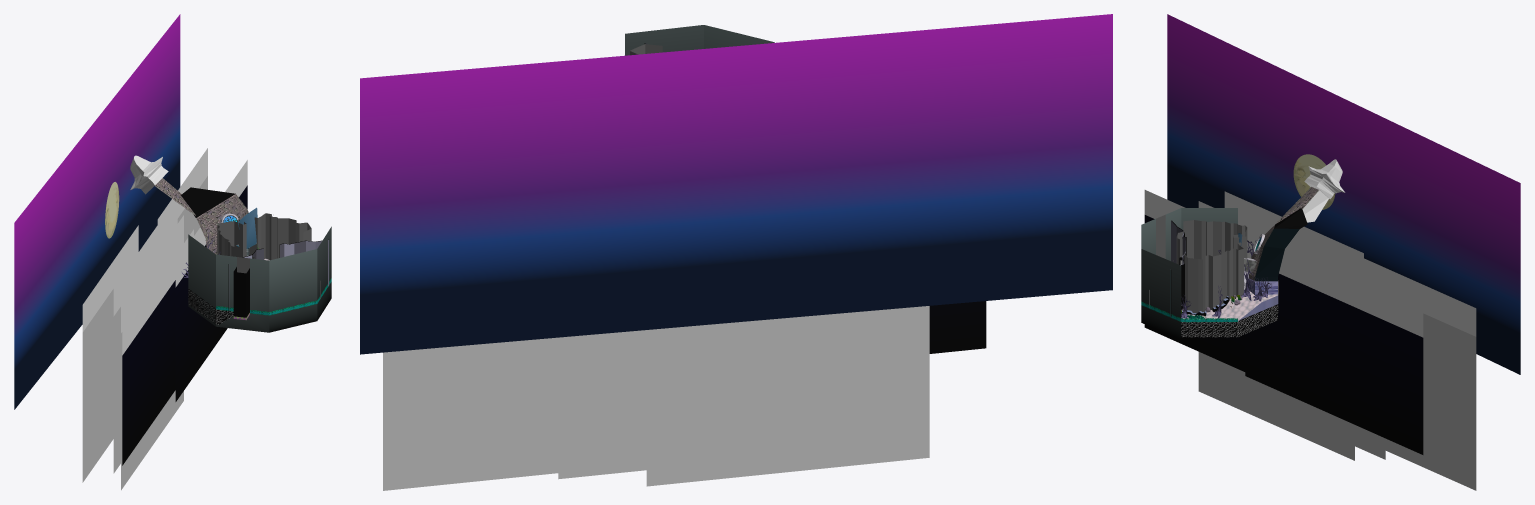
The model's file is gra_06.dae.
3 views of the same model, side by side, from view 1: azimuth 30°, elevation 25°; view 2: azimuth 150°, elevation 25°; view 3: azimuth 270°, elevation 25° (orthographic). The views are drawn at different scales.
Parts seen in each view (by area): view 1: pPlane364_q044, a_zimen02, polySurface953_q038_part0, polySurface953_q037_part0, polySurface953_q039_part0, polySurface953_q040_part1, polySurface953_q036_part1, a_niwa01, polySurface953_q040_part0, polySurface953_q037_part1, polySurface953_q038_part1, polySurface953_q036_part0 (+14 smaller); view 2: pPlane364_q044, polySurface953_q037_part0, polySurface953_q041_part0, polySurface953_q038_part0, a_zimen02, polySurface953_q036_part0; view 3: pPlane364_q044, polySurface953_q039_part0, polySurface953_q041_part0, polySurface953_q040_part0, a_zimen02, polySurface953_q039_part1, a_niwa01, polySurface953_q041_part1, polySurface953_q036_part1, a_niwa02, pCube3_q008_part1, polySurface953_q038_part0 (+11 smaller).
Part boxes in pixels (box(x1,y1,x2,y2)): pPlane364_q044: box(14, 14, 180, 409); a_zimen02: box(188, 226, 331, 332); polySurface953_q038_part0: box(122, 280, 175, 465); polySurface953_q037_part0: box(82, 289, 113, 482); polySurface953_q039_part0: box(175, 185, 247, 401); polySurface953_q040_part1: box(121, 215, 183, 332); polySurface953_q036_part1: box(113, 201, 177, 316); a_niwa01: box(249, 213, 311, 260); polySurface953_q040_part0: box(121, 332, 183, 490); polySurface953_q037_part1: box(82, 225, 138, 331); polySurface953_q038_part1: box(122, 229, 193, 355); polySurface953_q036_part0: box(113, 307, 120, 473); pPlane364_q044: box(360, 14, 1112, 354); polySurface953_q037_part0: box(646, 306, 929, 486); polySurface953_q041_part0: box(383, 331, 637, 490); polySurface953_q038_part0: box(929, 301, 986, 353); a_zimen02: box(625, 25, 774, 55); polySurface953_q036_part0: box(558, 330, 646, 479); pPlane364_q044: box(1167, 14, 1520, 374); polySurface953_q039_part0: box(1245, 273, 1423, 454); polySurface953_q041_part0: box(1385, 313, 1476, 490); polySurface953_q040_part0: box(1198, 352, 1354, 460); a_zimen02: box(1141, 208, 1237, 339); polySurface953_q039_part1: box(1247, 233, 1423, 337); a_niwa01: box(1184, 241, 1247, 312); polySurface953_q041_part1: box(1351, 252, 1476, 336); polySurface953_q036_part1: box(1226, 199, 1385, 294); a_niwa02: box(1183, 220, 1247, 259); pCube3_q008_part1: box(1255, 208, 1307, 281); polySurface953_q038_part0: box(1144, 215, 1245, 371).
Size of the model in its own units: 309 by 255 by 277.
